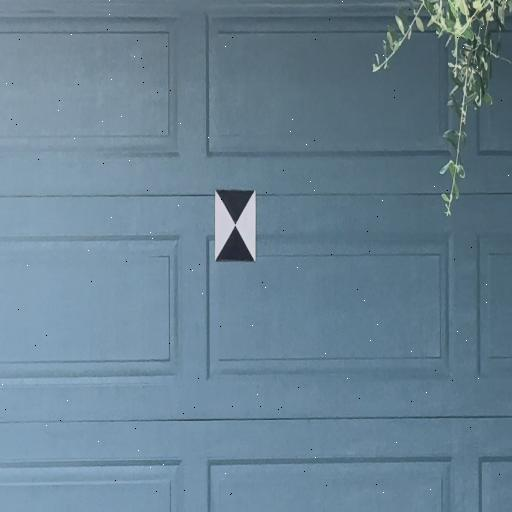target: (216, 189, 256, 260)
